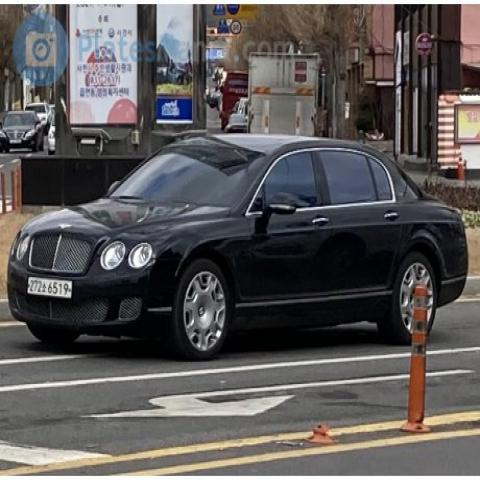LP: (19, 269, 80, 305)
